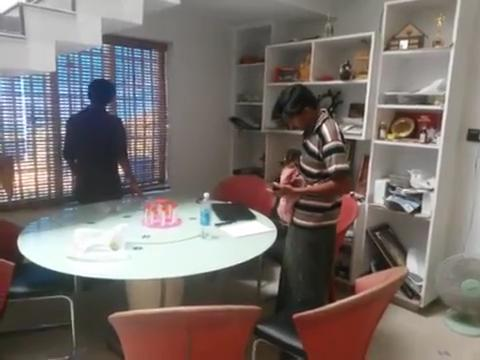chair: (251, 266, 408, 359), (1, 219, 77, 360), (257, 194, 358, 298), (106, 304, 262, 359), (213, 174, 276, 294)
closet_cabinet: (231, 1, 479, 308)
cup_glass_bottle: (141, 196, 182, 228)
floor: (1, 255, 480, 360), (1, 1, 181, 76)
paper_notebook: (210, 203, 274, 238)
person: (265, 84, 351, 314), (63, 79, 143, 204)
table_desk: (16, 195, 277, 356)
towel_s: (276, 165, 305, 228)
window: (1, 43, 163, 203)
